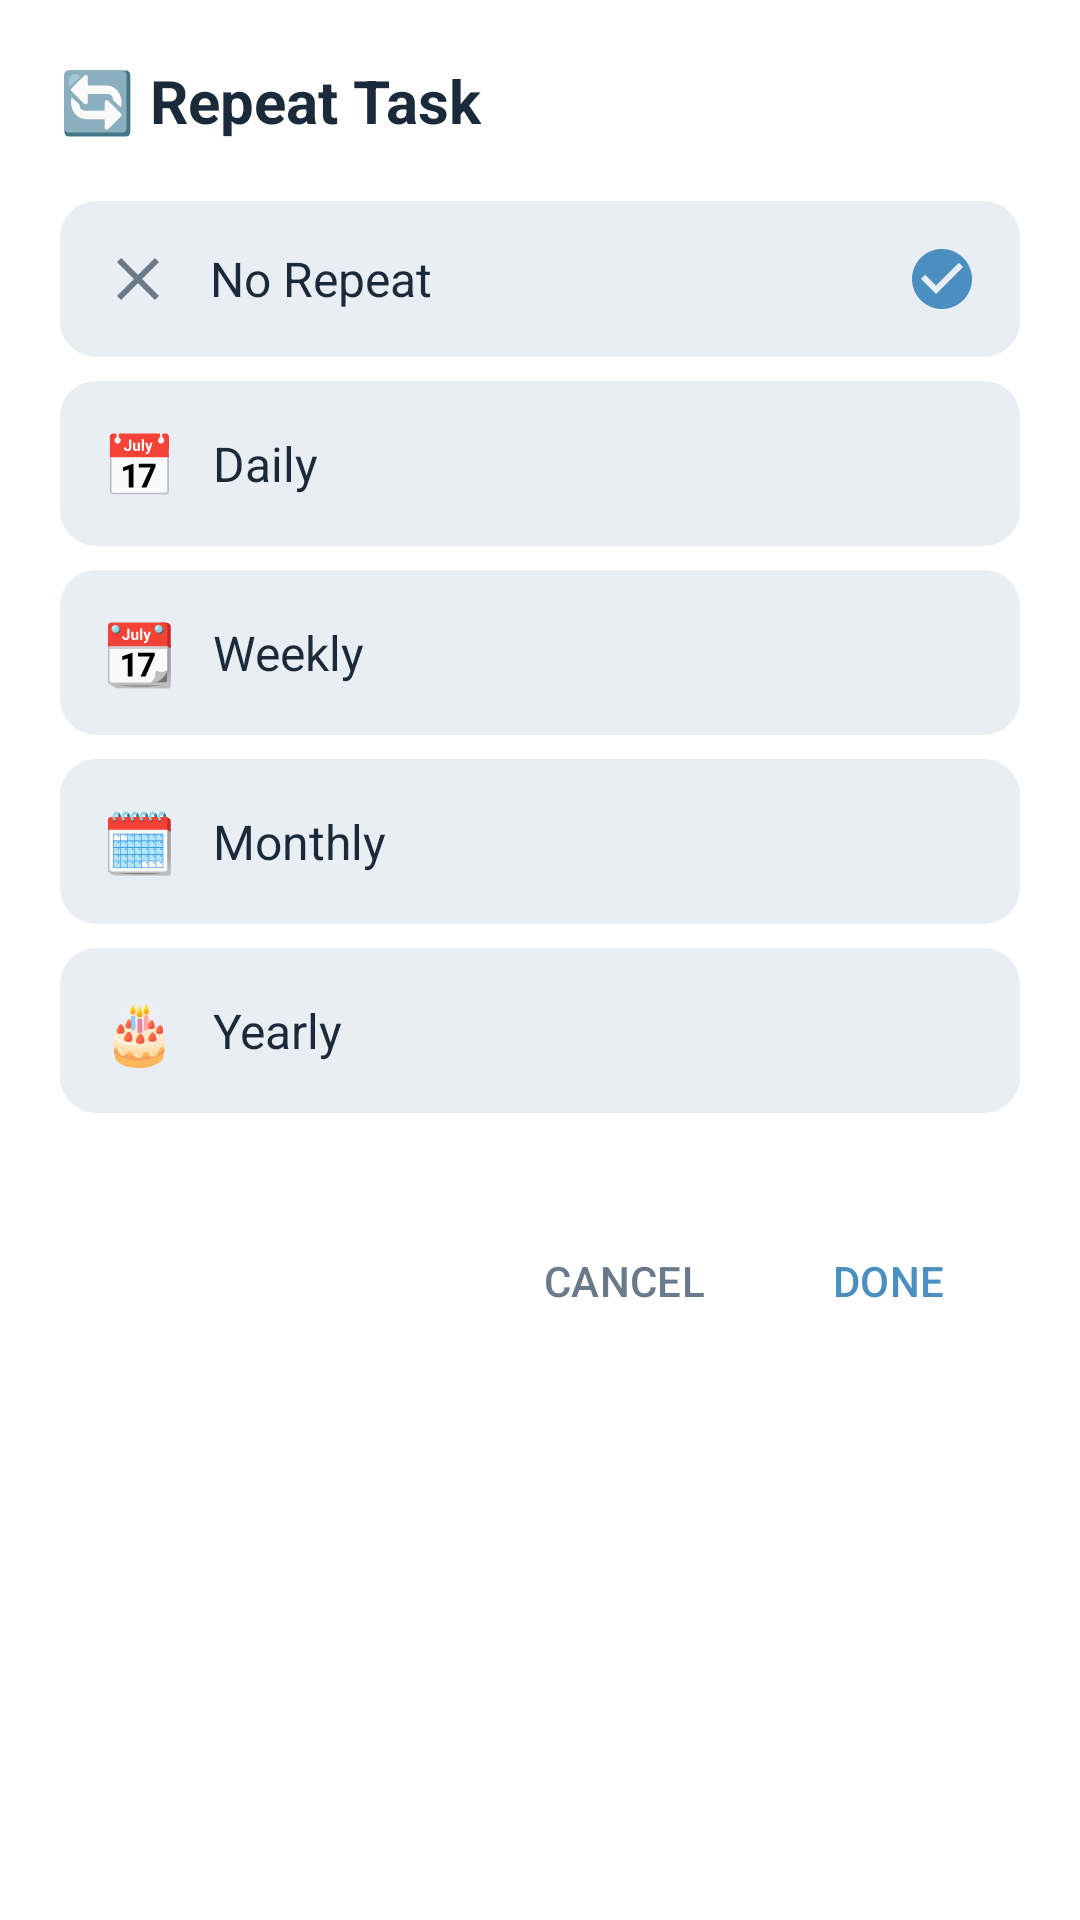

Locate icon controls on the screen. Image size 1080×1920, boxes as (x1, y1, x2, y2).
check circle: (912, 249, 972, 309)
close: (117, 258, 159, 300)
